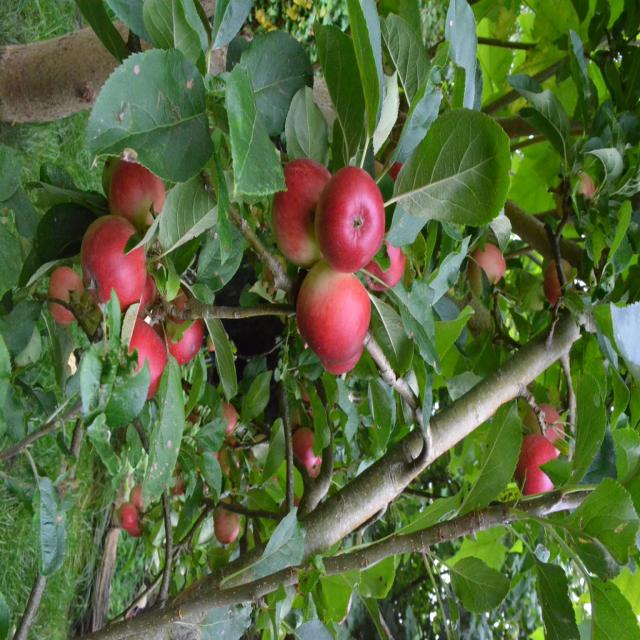Healty Apple: (45, 157, 209, 406), (112, 398, 241, 546), (295, 260, 372, 364), (314, 162, 386, 270), (269, 159, 331, 273), (517, 438, 561, 498), (362, 234, 404, 294), (553, 170, 597, 227), (523, 406, 566, 452), (466, 248, 504, 297), (544, 260, 578, 304), (293, 428, 321, 479), (326, 348, 366, 375), (274, 500, 301, 524), (384, 150, 400, 178), (303, 382, 311, 418)
